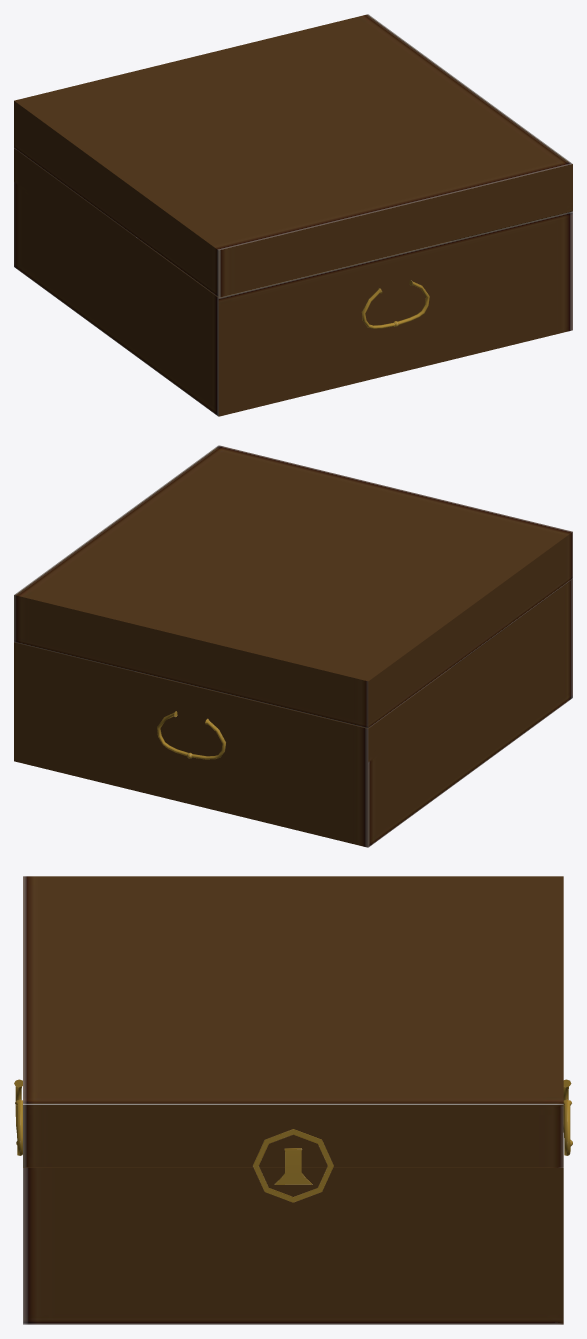
Rendered from LA_Treasurebox.fbx.
3 renders of one model, top to bottom at view 1: azimuth 30°, elevation 25°; view 2: azimuth 150°, elevation 25°; view 3: azimuth 270°, elevation 25°, orthographic. The views are drawn at different scales.
Visible parts, largest first — view 1: prop_LA_Treasurebox; view 2: prop_LA_Treasurebox; view 3: prop_LA_Treasurebox.
Part boxes in pixels (<box>): prop_LA_Treasurebox: <box>14,14,572,416</box>; prop_LA_Treasurebox: <box>14,445,572,847</box>; prop_LA_Treasurebox: <box>14,876,572,1324</box>.
Bounding box in the file's own units: 0.5323 × 0.238 × 0.5485.
